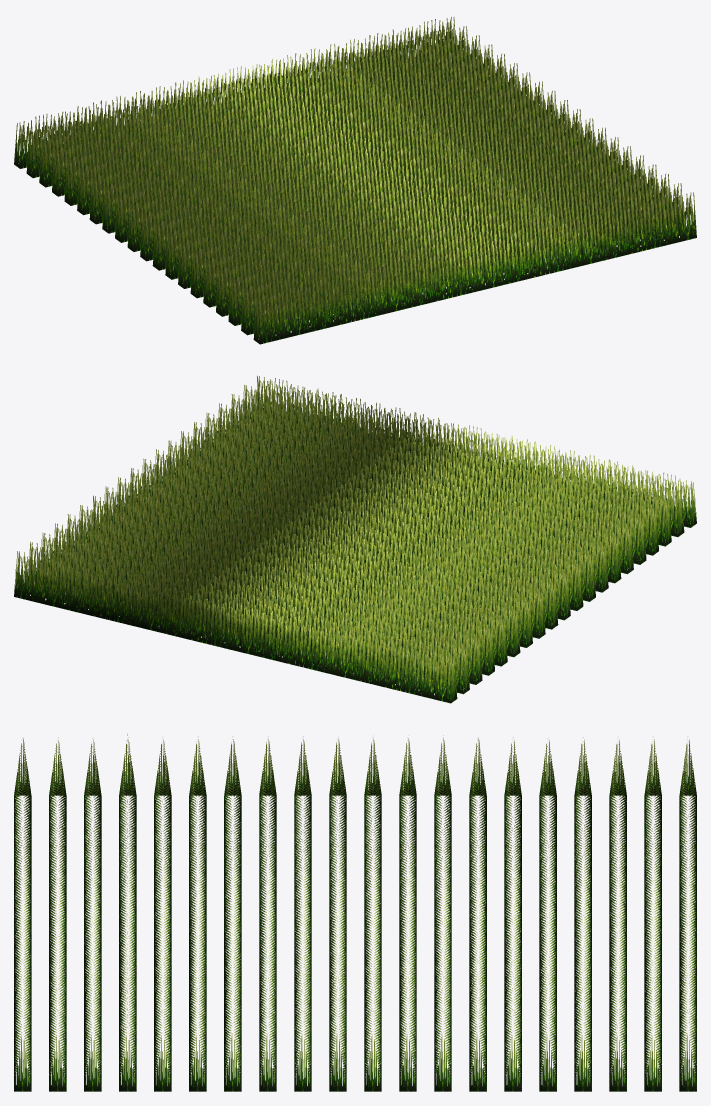
The model's file is mais.fbx.
The picture shows the model from 3 angles, top to bottom: view 1: azimuth 30°, elevation 25°; view 2: azimuth 150°, elevation 25°; view 3: azimuth 270°, elevation 25°; orthographic projection. The views are drawn at different scales.
Visible parts, largest first — view 1: mais; view 2: mais; view 3: mais.
Boxes of the visible parts, x1,y1,x2,y2 form: mais: (14, 17, 696, 344); mais: (14, 375, 696, 703); mais: (14, 734, 696, 1091).
Size of the model in its own units: 2000 by 200 by 1950.
